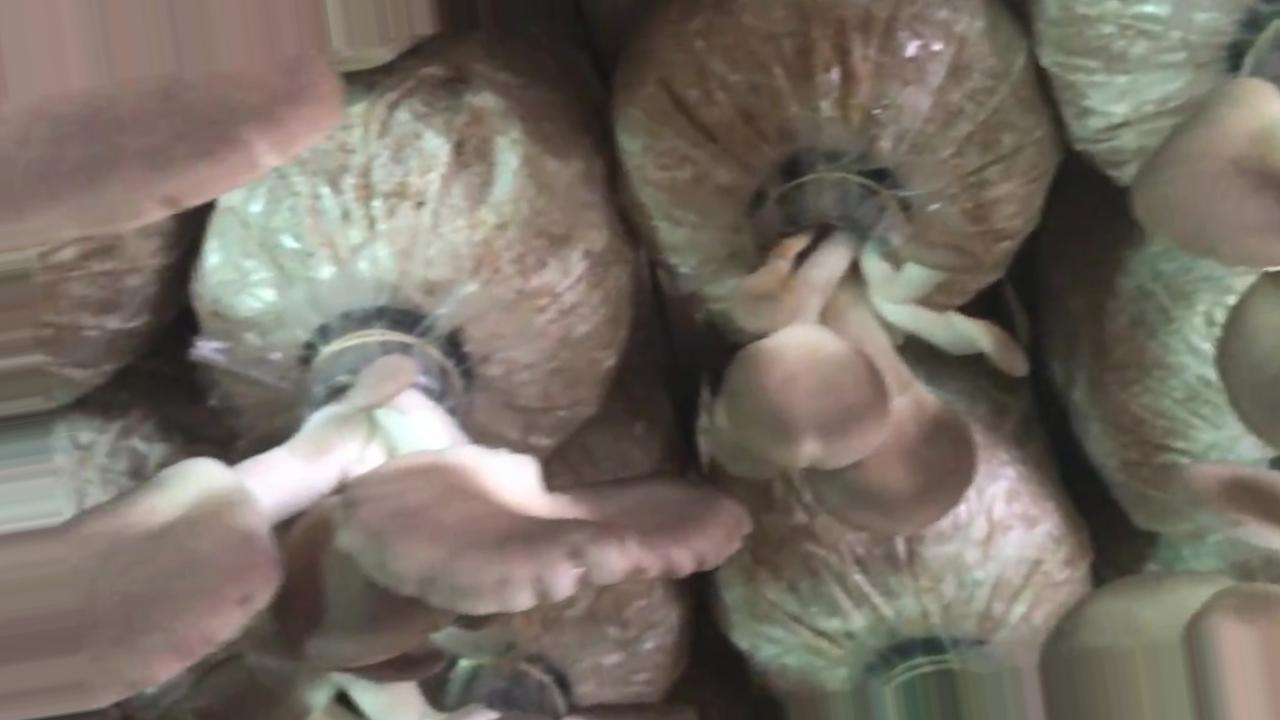nam: (7, 306, 753, 720), (700, 139, 1041, 538), (1, 9, 349, 259), (1125, 63, 1280, 456), (1039, 462, 1280, 680)
